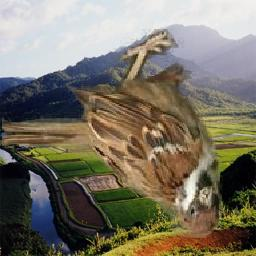Sparrow: (3, 30, 224, 239)
